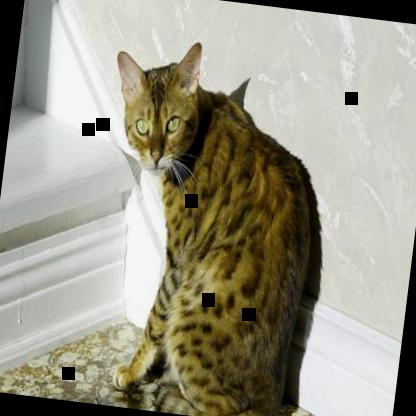cat: (73, 30, 334, 415)
